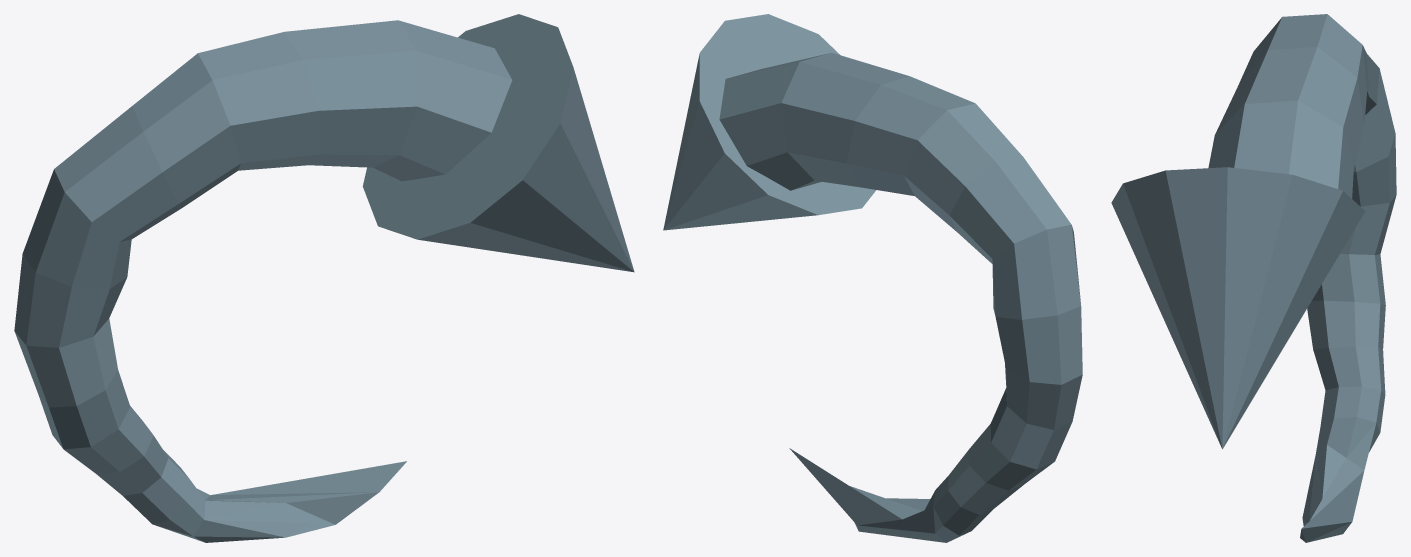
File: Curved arrow.fbx
3 views of the same model, side by side, from view 1: azimuth 30°, elevation 25°; view 2: azimuth 150°, elevation 25°; view 3: azimuth 270°, elevation 25° (orthographic). The views are drawn at different scales.
Visible parts, largest first — view 1: group_47418951; view 2: group_47418951; view 3: group_47418951.
Boxes of the visible parts, x1,y1,x2,y2 form: group_47418951: [14, 14, 634, 542]; group_47418951: [663, 14, 1082, 542]; group_47418951: [1111, 14, 1396, 542].
Bounding box in the file's own units: 58.59 × 52.01 × 27.91.
